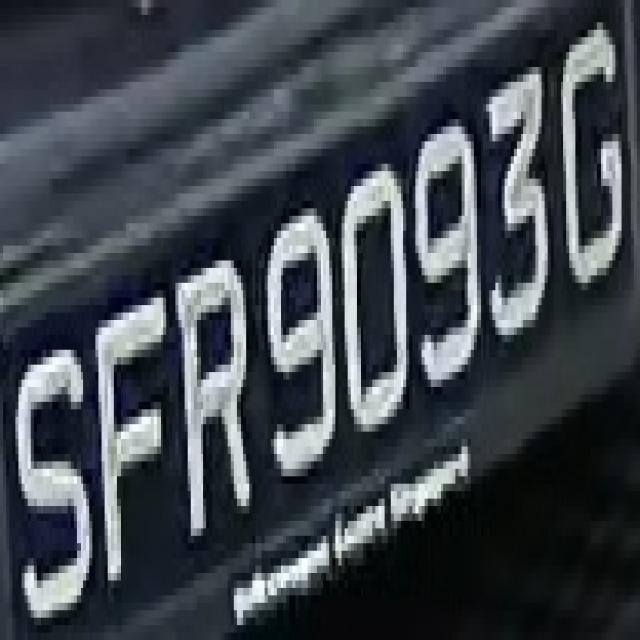0: (338, 141, 416, 439)
3: (474, 52, 548, 350)
9: (262, 201, 342, 499), (406, 134, 486, 402)
F: (92, 268, 176, 603)
G: (551, 15, 634, 283)
R: (172, 253, 265, 558)
S: (16, 312, 92, 632)
